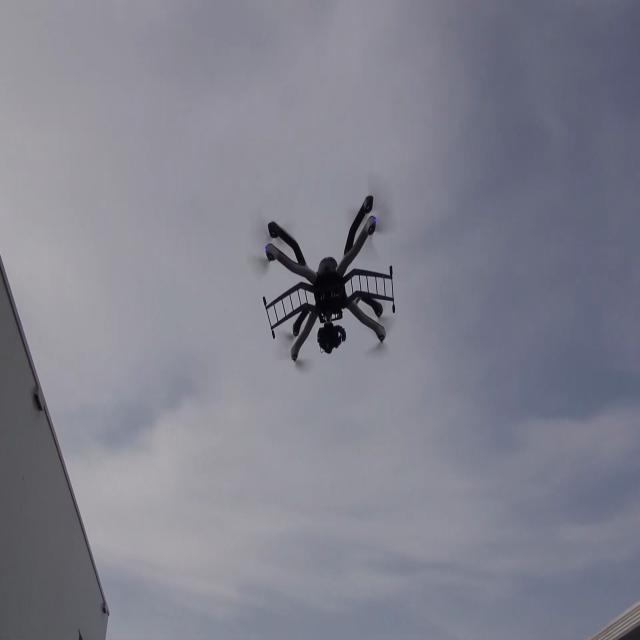drone: (252, 183, 401, 371)
